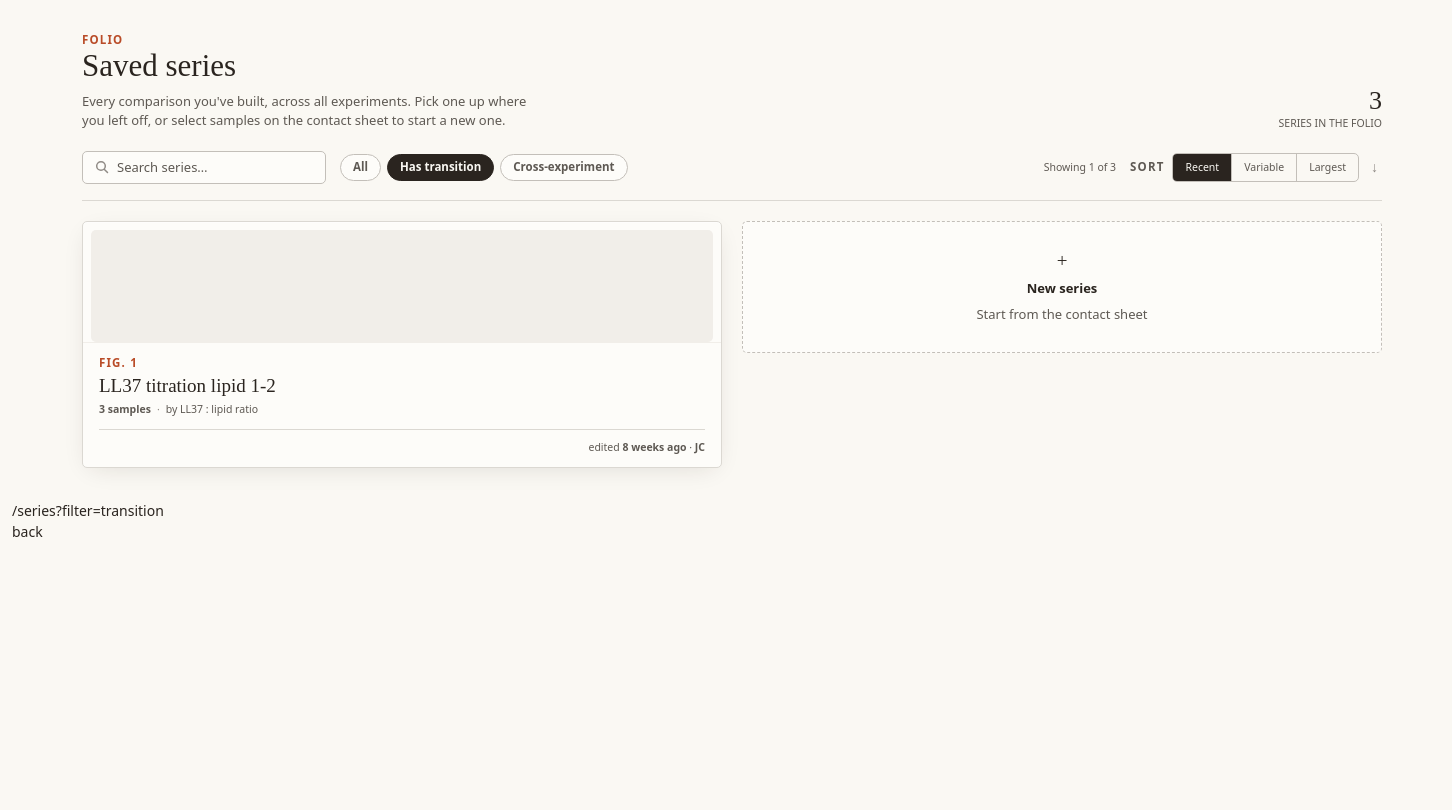
Scenario: SeriesFolioPage URL round-trip (FOL P2-3) › returning the filter to All removes ?filter=
Click the button with test id "filter-chip" at (360, 167), box [340,154,381,180]
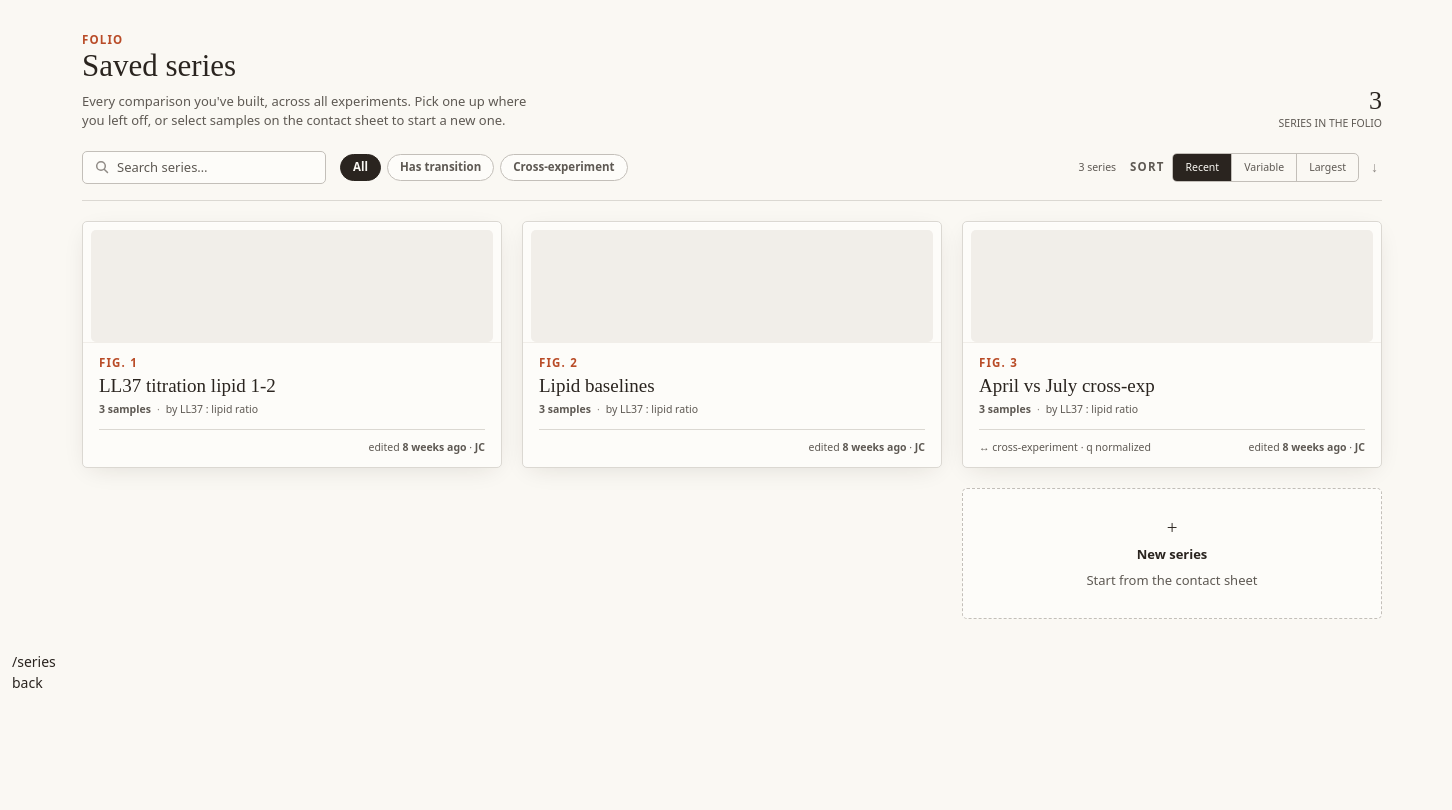
expect the text with test id "loc" reads "/series": met, box [12,652,56,671]
